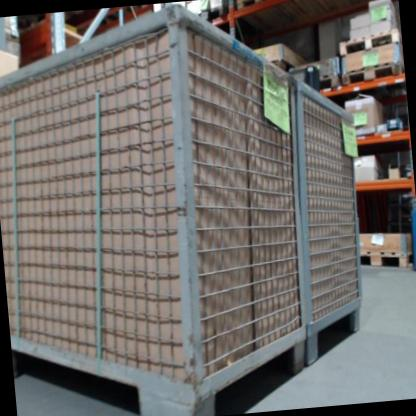pallet: (336, 25, 403, 57), (341, 58, 406, 85), (359, 248, 416, 273), (235, 0, 282, 11), (317, 72, 342, 90)
